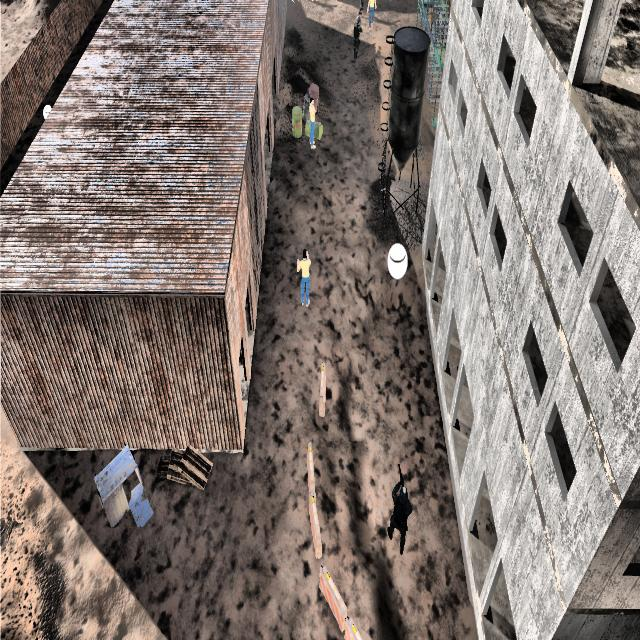bad: (384, 464, 414, 559), (351, 9, 365, 61)
good: (294, 239, 318, 314), (304, 89, 320, 156), (362, 0, 381, 36)
